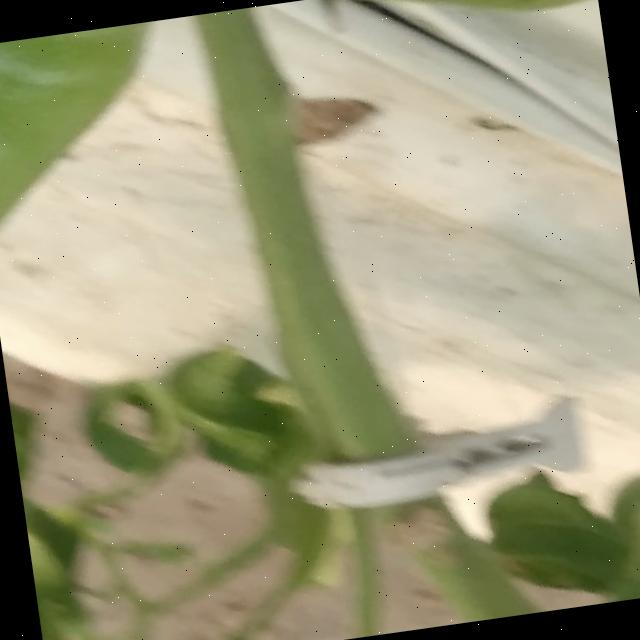tomato: (0, 0, 621, 255)
